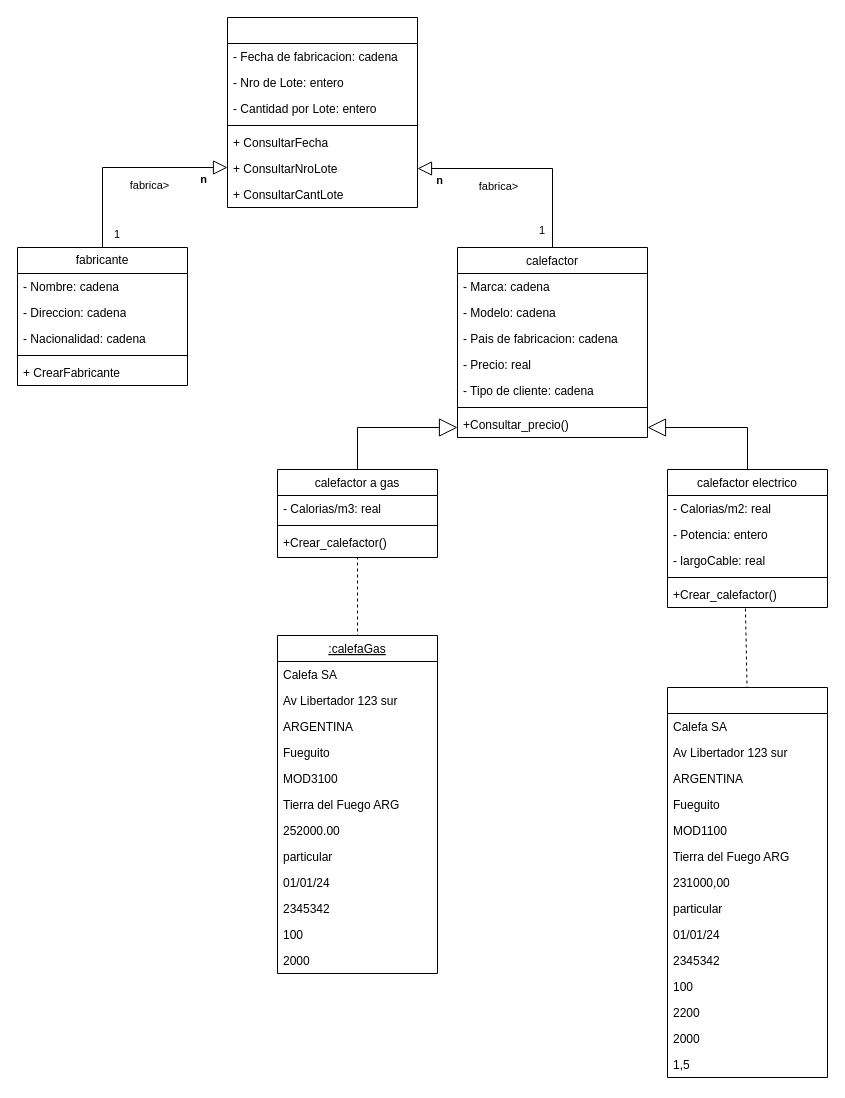
This 845x1098 diagram has some shape labels left out. The shapes that lost their labels are listed below. From the top down, each one's box as (x1, y1, x2, y2) in pixels, then its label:
(226, 16, 418, 208): registro
(666, 686, 828, 1078): :calefaElectrico
